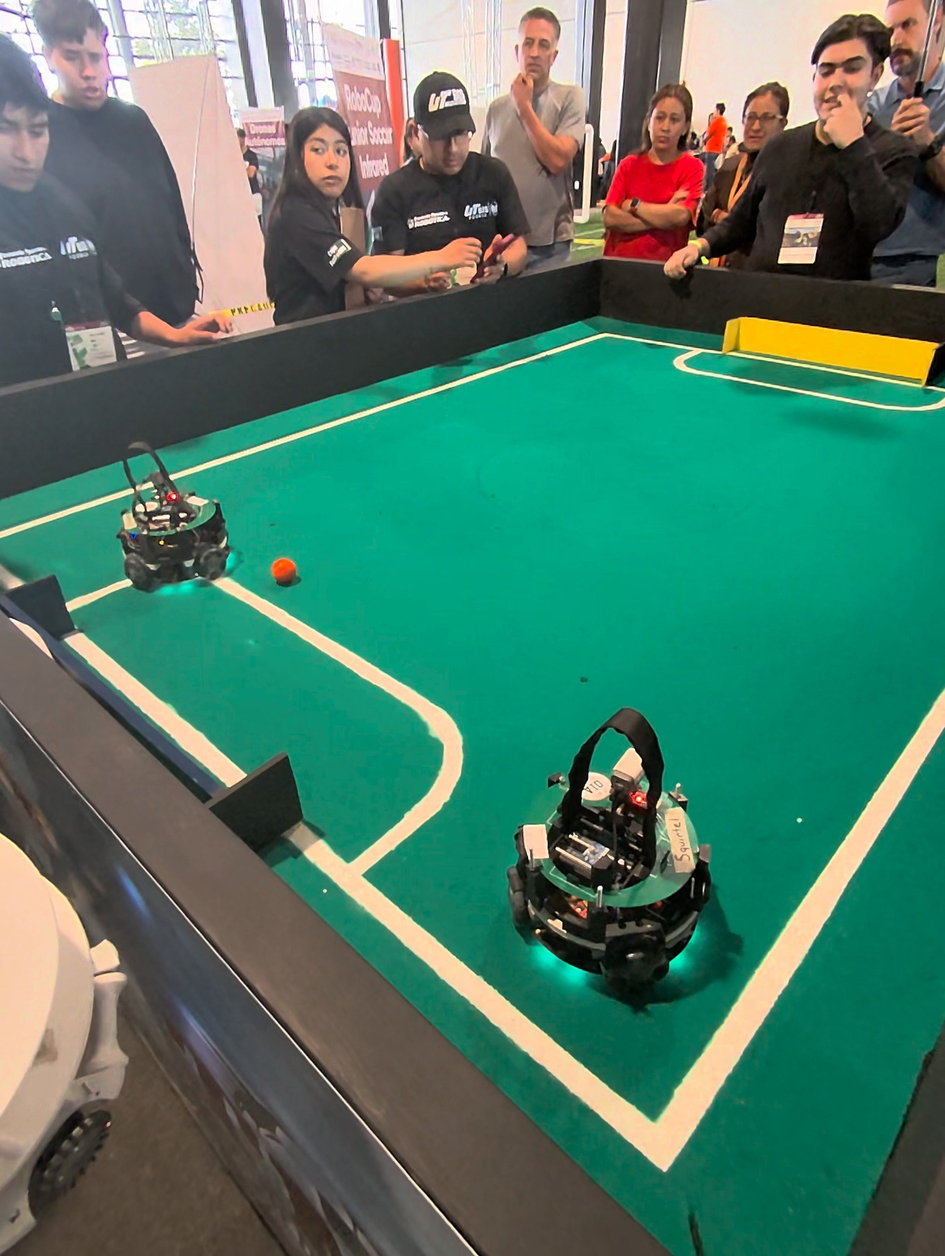Robot: (500, 687, 722, 1012), (114, 447, 237, 598)
pelota: (271, 557, 295, 584)
